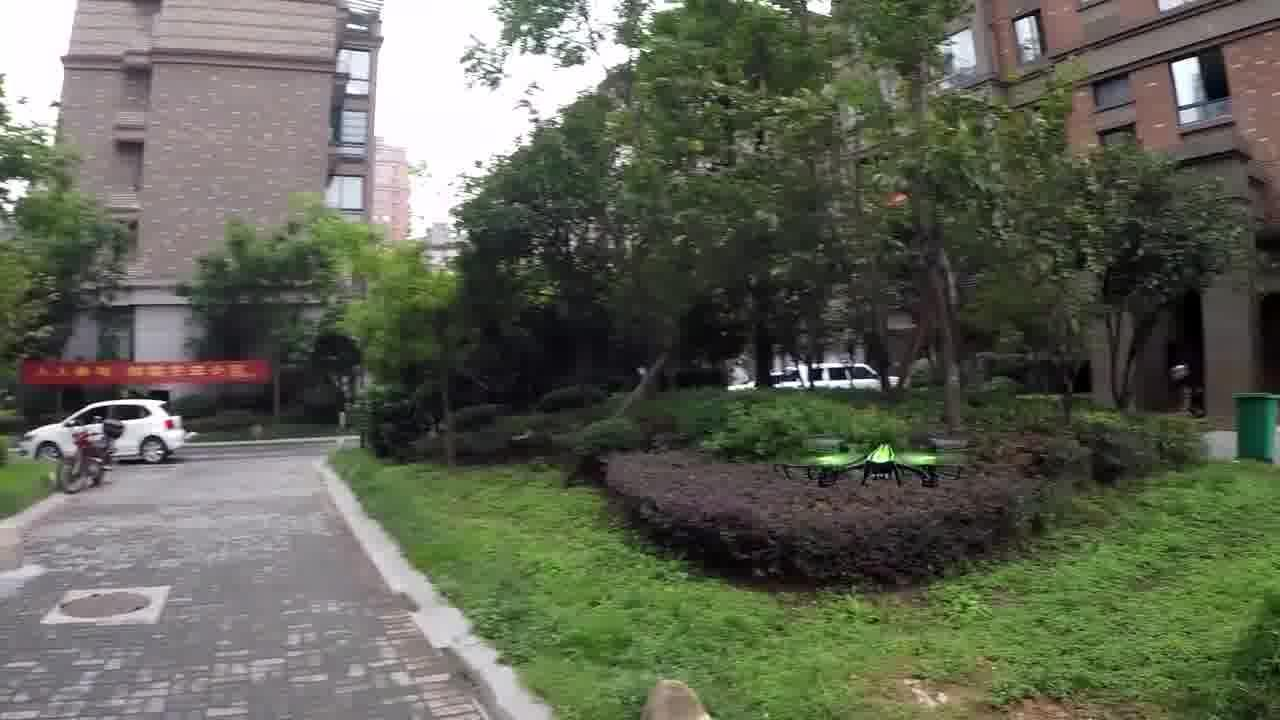drone: (778, 431, 961, 490)
